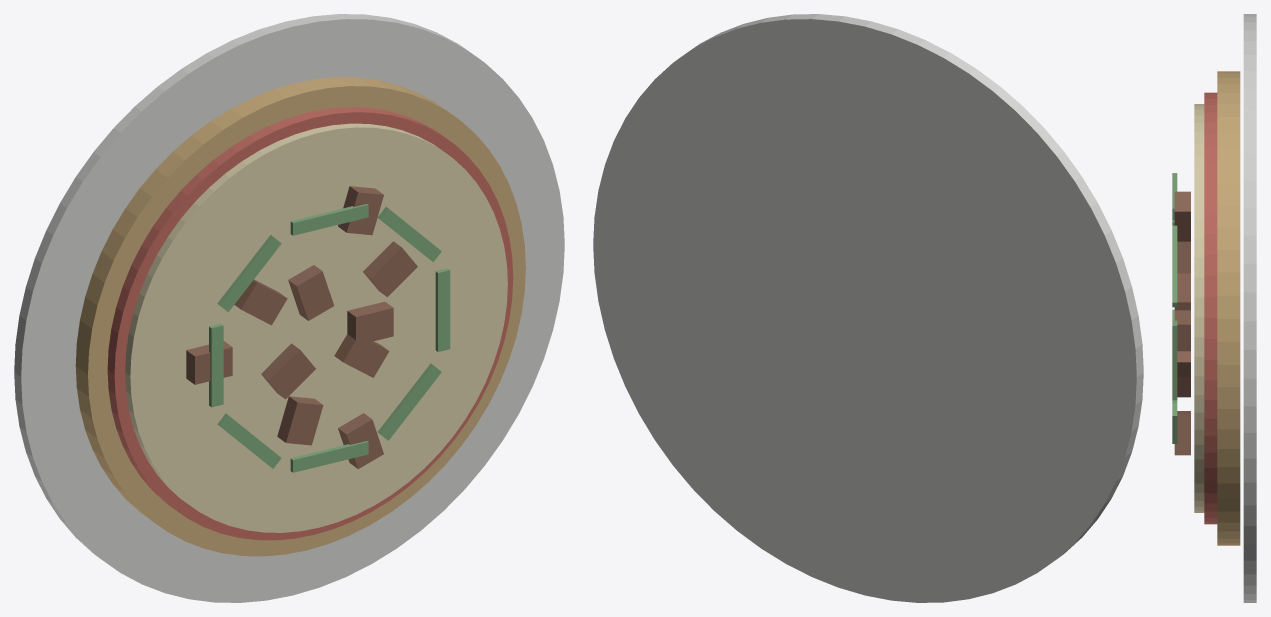
File: pizza-asado.glb
3 views of the same model, side by side, from view 1: azimuth 30°, elevation 25°; view 2: azimuth 150°, elevation 25°; view 3: azimuth 270°, elevation 25° (orthographic). The views are drawn at different scales.
Parts seen in each view (by area): view 1: world; view 2: world; view 3: world.
Part boxes in pixels (left/top/right/bottom): world: left=14, top=14, right=564, bottom=602; world: left=593, top=14, right=1143, bottom=602; world: left=1172, top=14, right=1256, bottom=602.
Bounding box in the file's own units: 0.36 × 0.36 × 0.0515.
